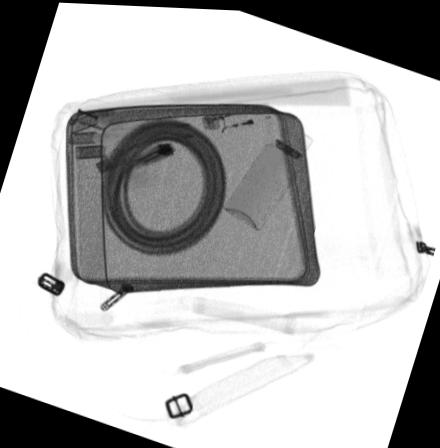Lighter: (198, 101, 276, 132)
Sprayer: (221, 118, 312, 227)
